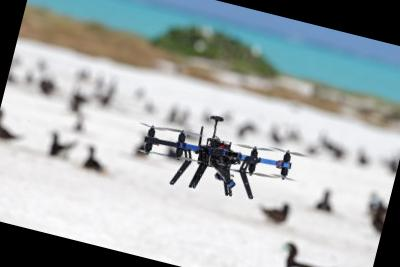drone: (130, 104, 312, 221)
